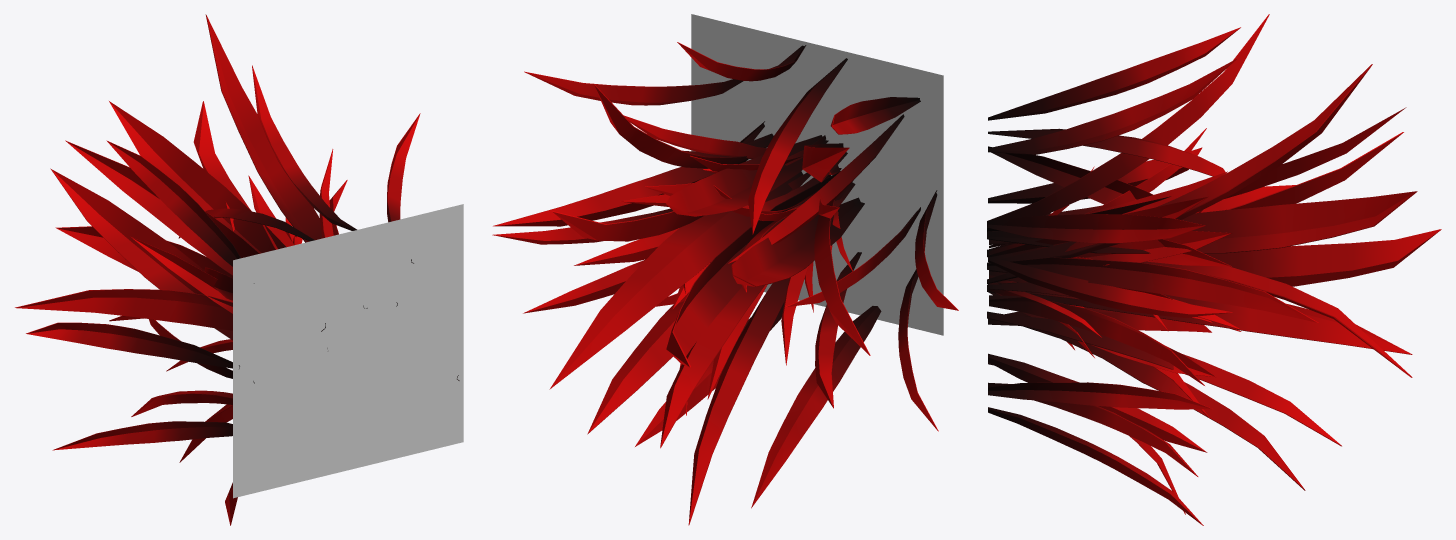
The model's file is grass.fbx.
3 renders of one model, left to right at view 1: azimuth 30°, elevation 25°; view 2: azimuth 150°, elevation 25°; view 3: azimuth 270°, elevation 25°, orthographic. The views are drawn at different scales.
Visible parts, largest first — view 1: Cube, Cube.003, Cube.001; view 2: Cube, Cube.003, Cube.001, Cube.002; view 3: Cube.003, Cube, Cube.001, Cube.002.
Boxes of the visible parts, x1,y1,x2,y2 form: Cube: (26, 65, 463, 525); Cube.003: (15, 14, 391, 462); Cube.001: (131, 149, 333, 371); Cube: (492, 14, 958, 508); Cube.003: (493, 84, 870, 525); Cube.001: (574, 115, 856, 399); Cube.002: (703, 165, 852, 312); Cube.003: (987, 14, 1441, 490); Cube: (988, 27, 1241, 525); Cube.001: (989, 128, 1241, 418); Cube.002: (989, 166, 1173, 357).
Size of the model in its own units: 1061 by 1046 by 893.
